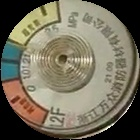green: (1, 39, 26, 81)
red: (2, 78, 51, 128)
yellow: (8, 2, 61, 48)
